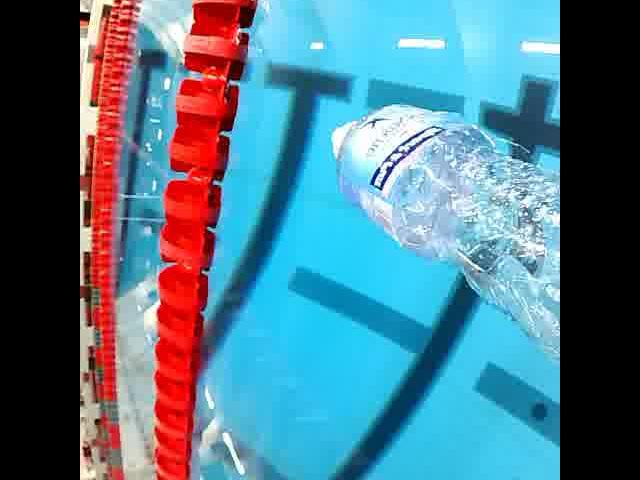Bottle: (324, 96, 560, 374)
